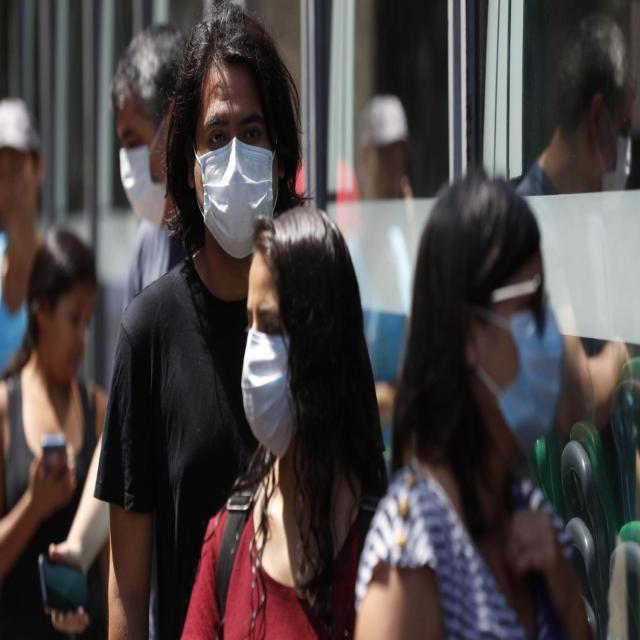adult: (108, 6, 302, 640), (352, 173, 598, 640), (185, 203, 388, 640)
